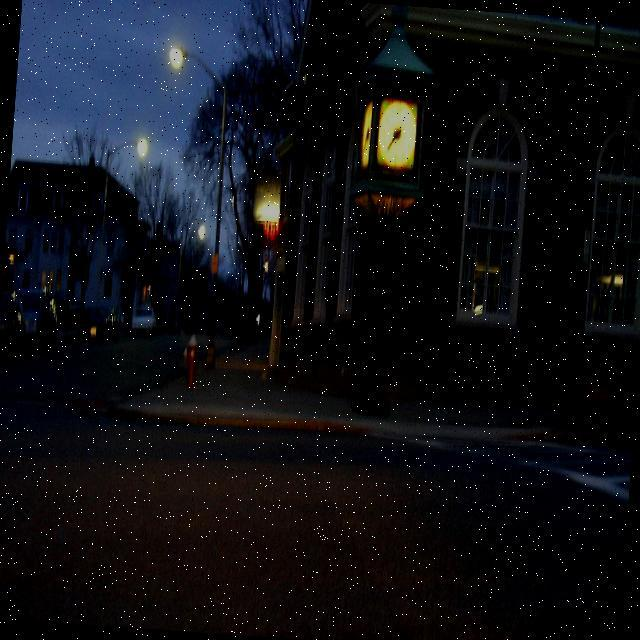fire_hydrant: (179, 332, 198, 387)
